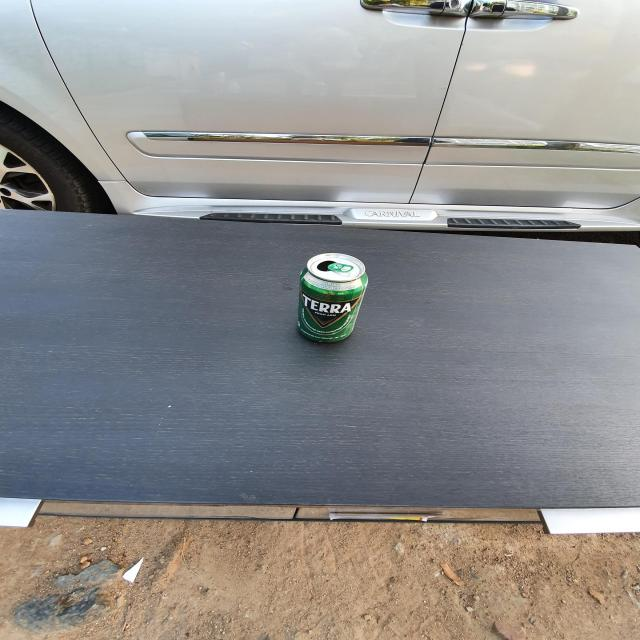can: (297, 253, 368, 342)
